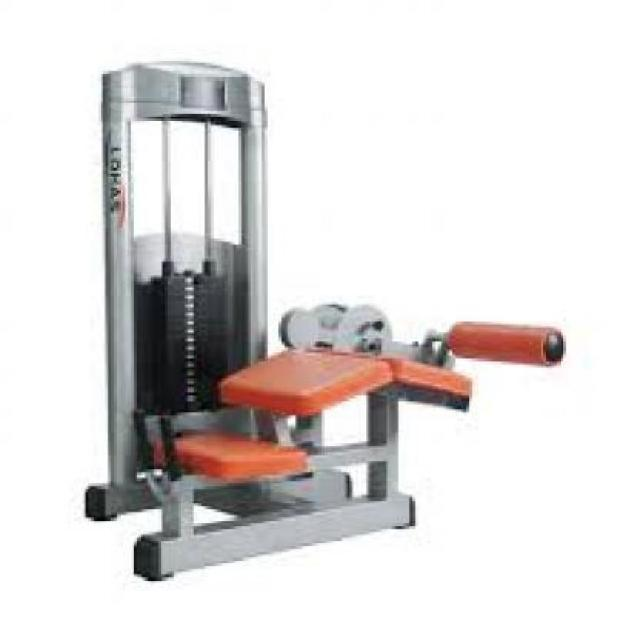reg curl machine: (85, 50, 564, 588)
